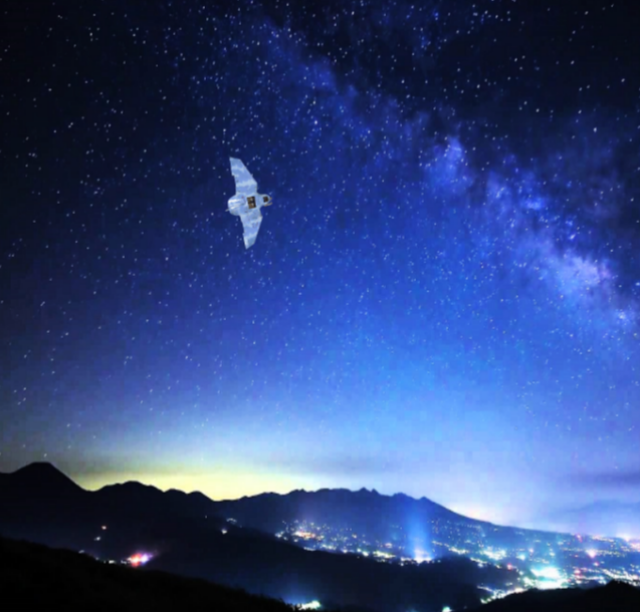military drone: (224, 157, 272, 249)
